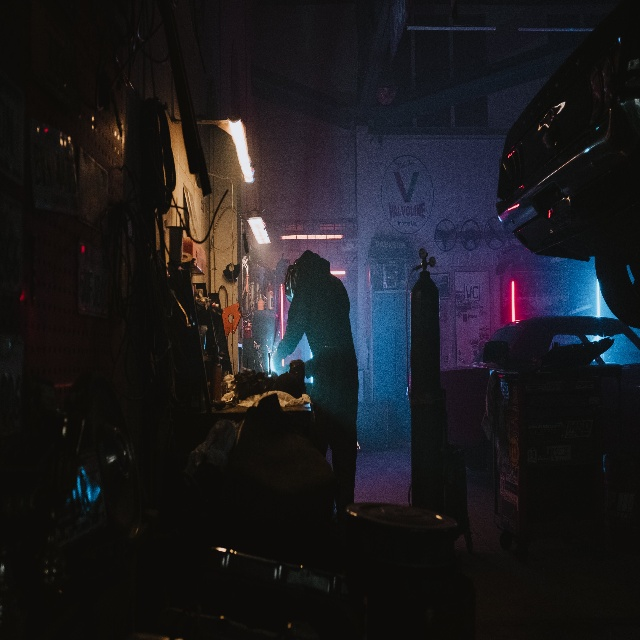Guantes: (271, 349, 280, 369)
